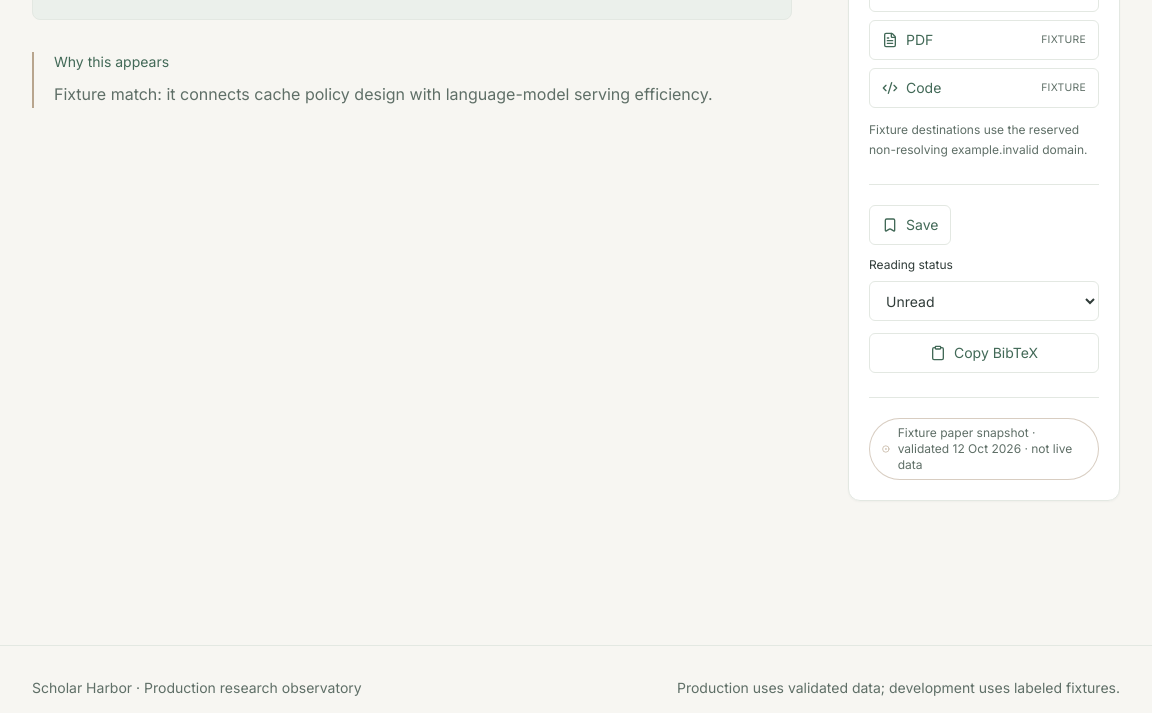
paper discovery and detail navigation › copies reliable citation metadata as BibTeX
This screenshot has width=1152, height=713.
(page scrolled)
Click the button "Copy BibTeX": (984, 353) [869,333,1099,373]
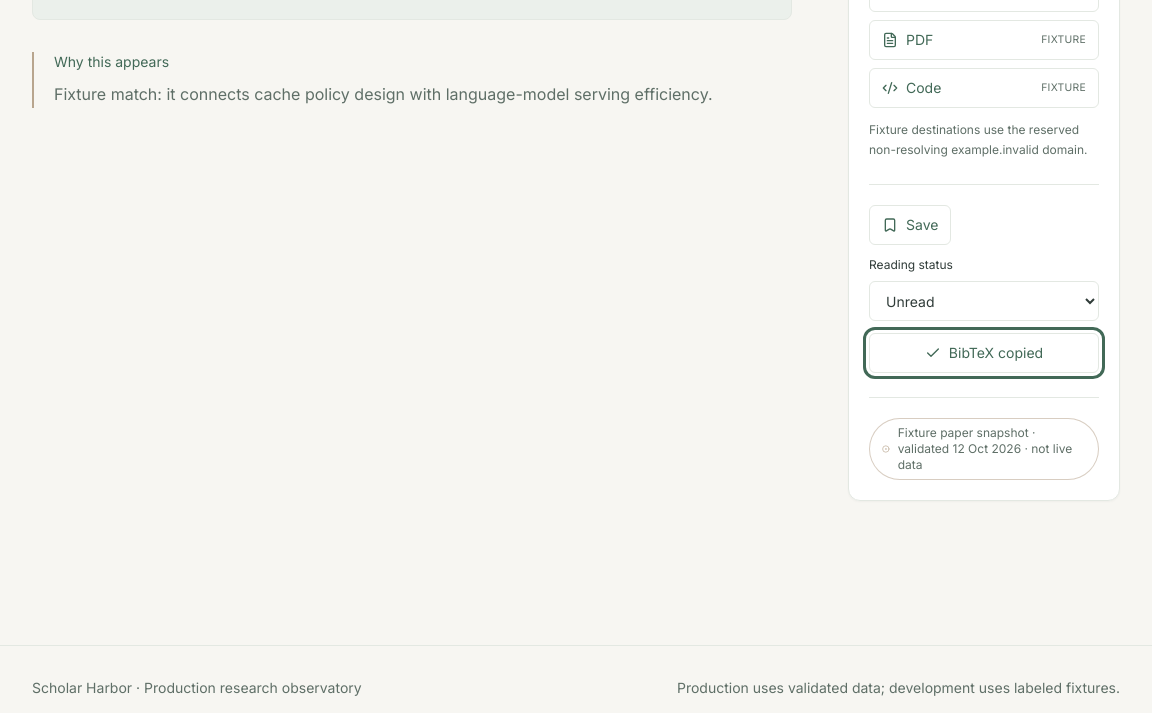
Now the button "BibTeX copied" is shown, box [869,333,1099,373]
